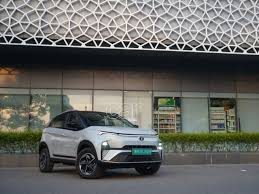Tata Nexon: (37, 109, 165, 181)
